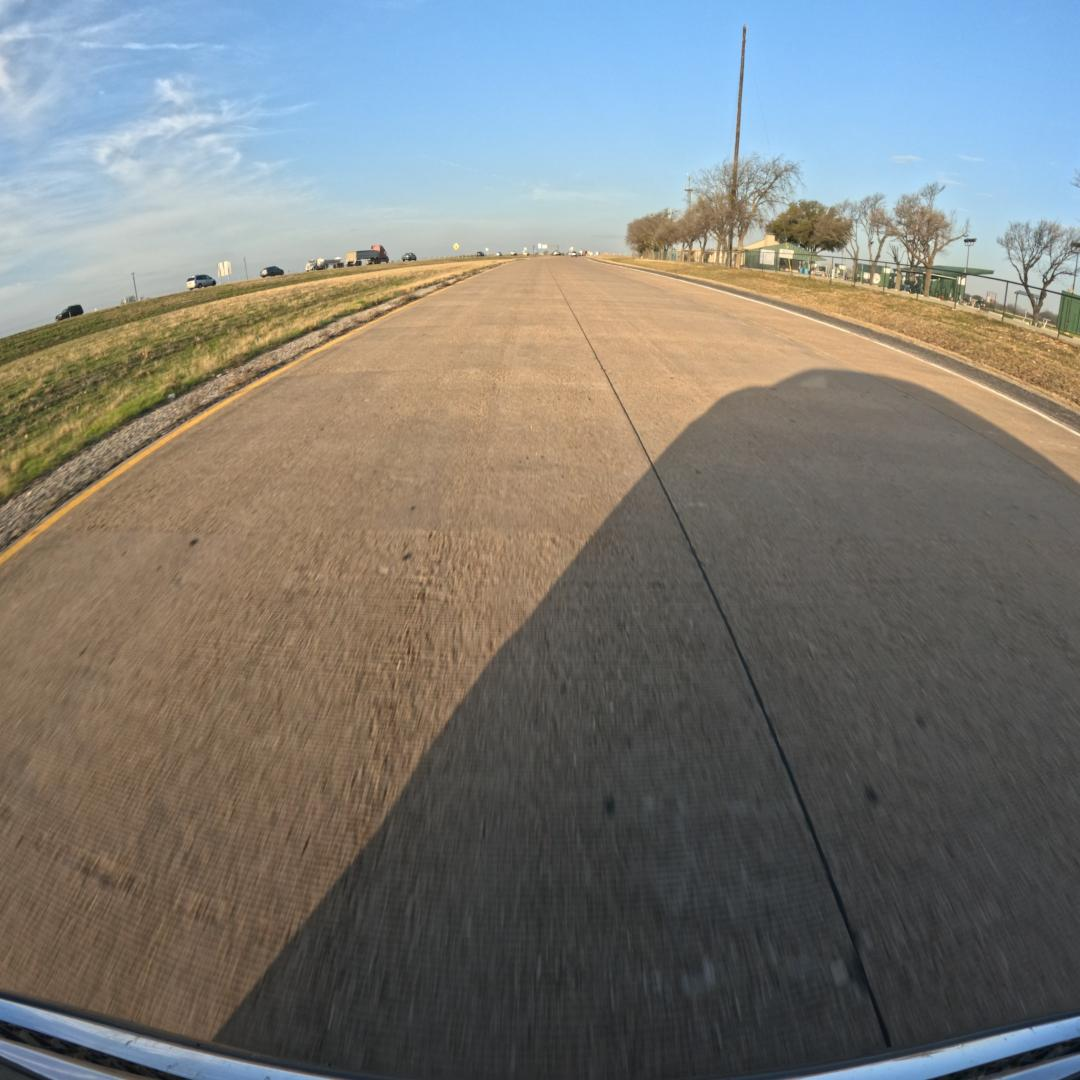lane0: (0, 263, 887, 1077)
